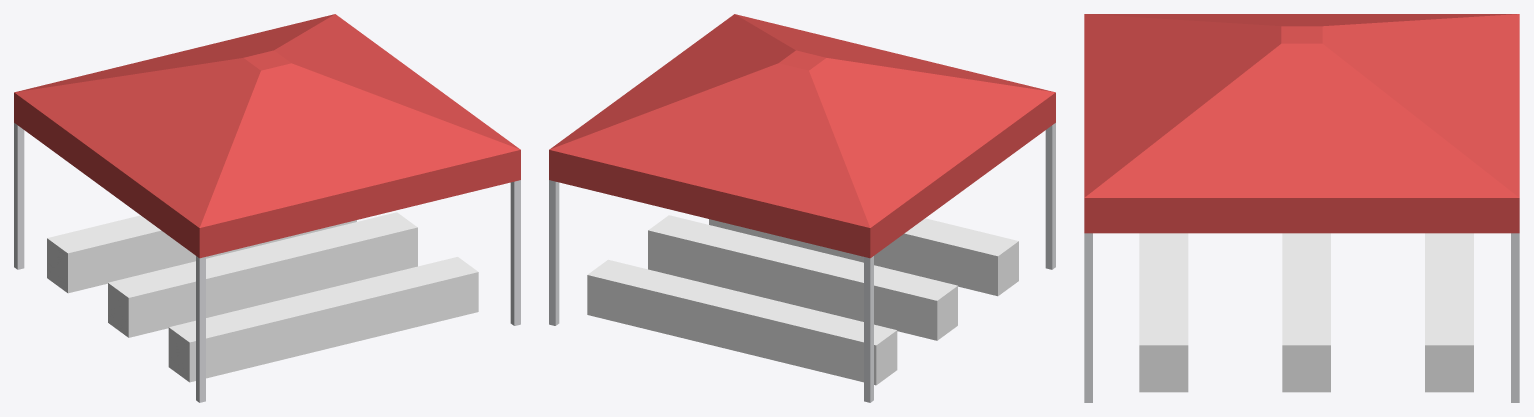
The model's file is tent_2.fbx.
The picture shows the model from 3 angles, left to right: view 1: azimuth 30°, elevation 25°; view 2: azimuth 150°, elevation 25°; view 3: azimuth 270°, elevation 25°; orthographic projection. The views are drawn at different scales.
Visible parts, largest first — view 1: tent_2; view 2: tent_2; view 3: tent_2.
Part boxes in pixels (x1,y1,x2,y2): tent_2: (14, 14, 520, 402); tent_2: (549, 14, 1055, 402); tent_2: (1084, 14, 1519, 402).
Bounding box in the file's own units: 1000 × 1000 × 700.
